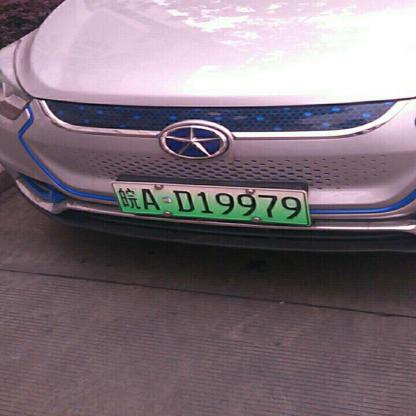lp: (111, 182, 309, 223)
